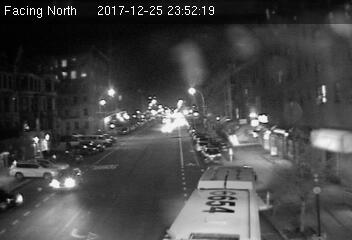bus: (154, 163, 265, 240)
car: (52, 167, 84, 190), (199, 146, 221, 164)
